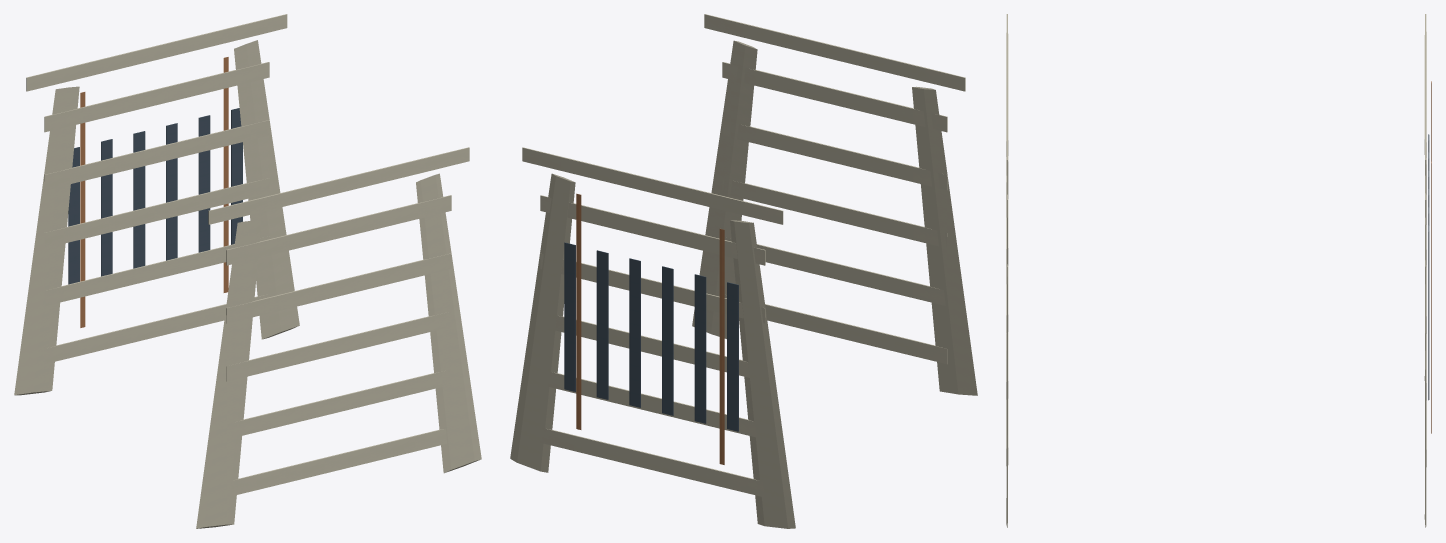
The model's file is crown-folio-archive-0.glb.
3 views of the same model, side by side, from view 1: azimuth 30°, elevation 25°; view 2: azimuth 150°, elevation 25°; view 3: azimuth 270°, elevation 25° (orthographic). The views are drawn at different scales.
Visible parts, largest first — view 1: crown-folio-archive_LOD0; view 2: crown-folio-archive_LOD0; view 3: crown-folio-archive_LOD0.
Part boxes in pixels (x1=…): crown-folio-archive_LOD0: x1=14, y1=14, x2=481, y2=528; crown-folio-archive_LOD0: x1=510, y1=14, x2=977, y2=528; crown-folio-archive_LOD0: x1=1006, y1=14, x2=1431, y2=527.
Bounding box in the file's own units: 0.8771 × 0.9381 × 0.9835.
3 materials, 3 textured.
